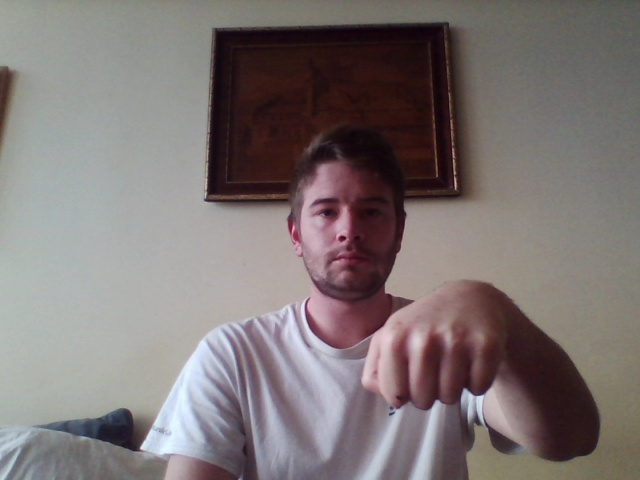da: (362, 296, 506, 411)
